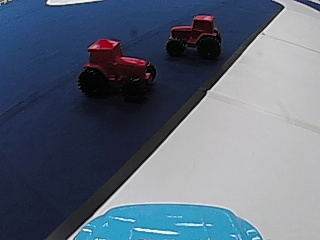tractor: (76, 36, 157, 100), (164, 12, 224, 60)
